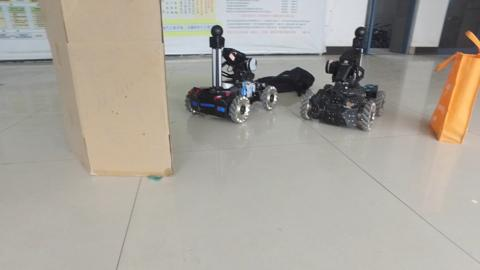bag: (438, 26, 478, 146)
chariot: (178, 26, 278, 123), (298, 25, 388, 131)
